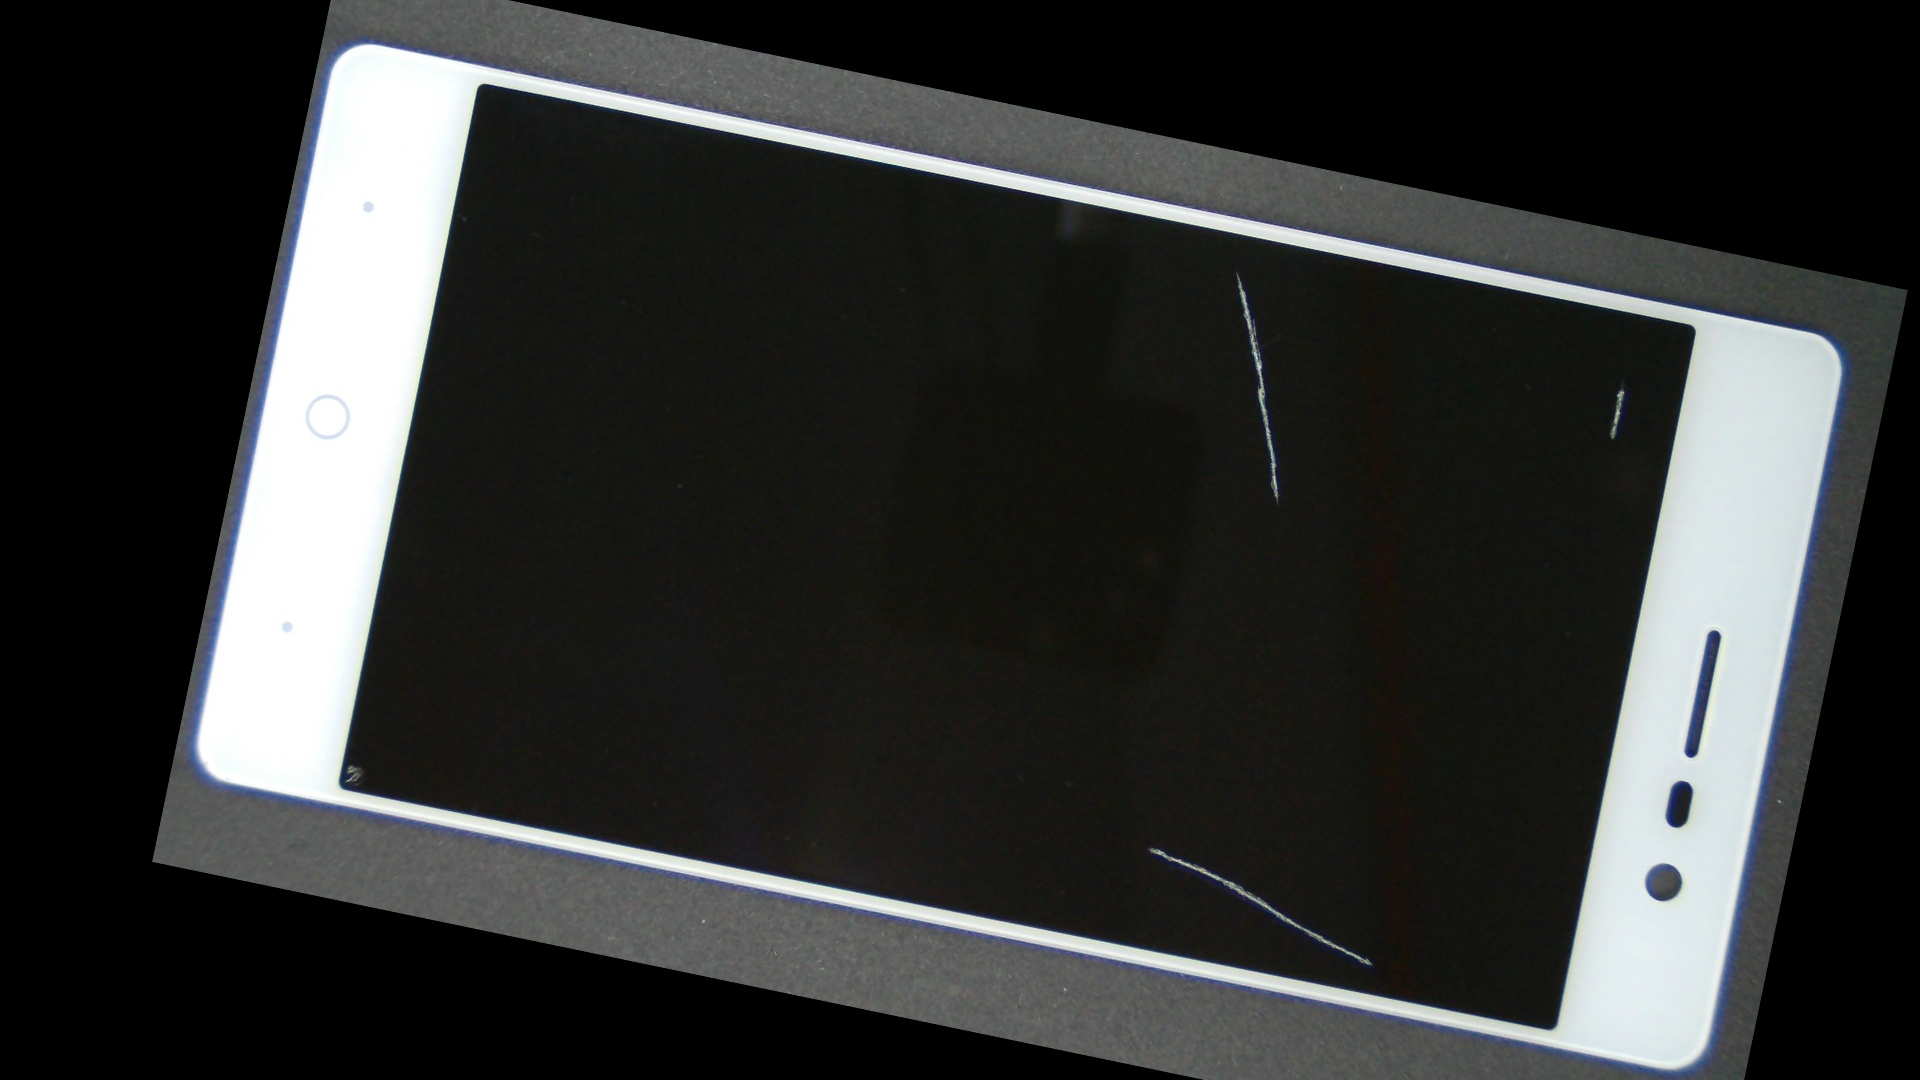oil: (630, 406, 1701, 1080), (948, 175, 1892, 516), (764, 117, 1710, 426), (240, 364, 521, 916)
